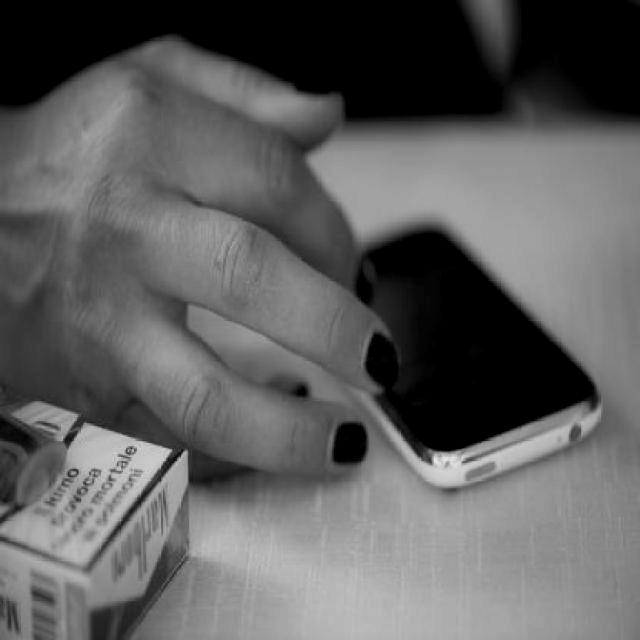fake: (304, 218, 601, 498)
